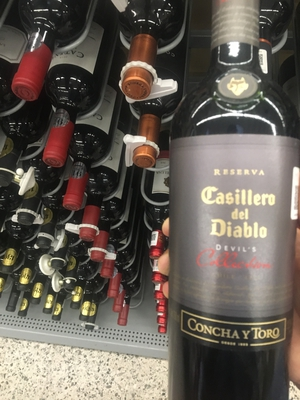casillero del diablo devils collection rojo: (161, 3, 299, 400)
